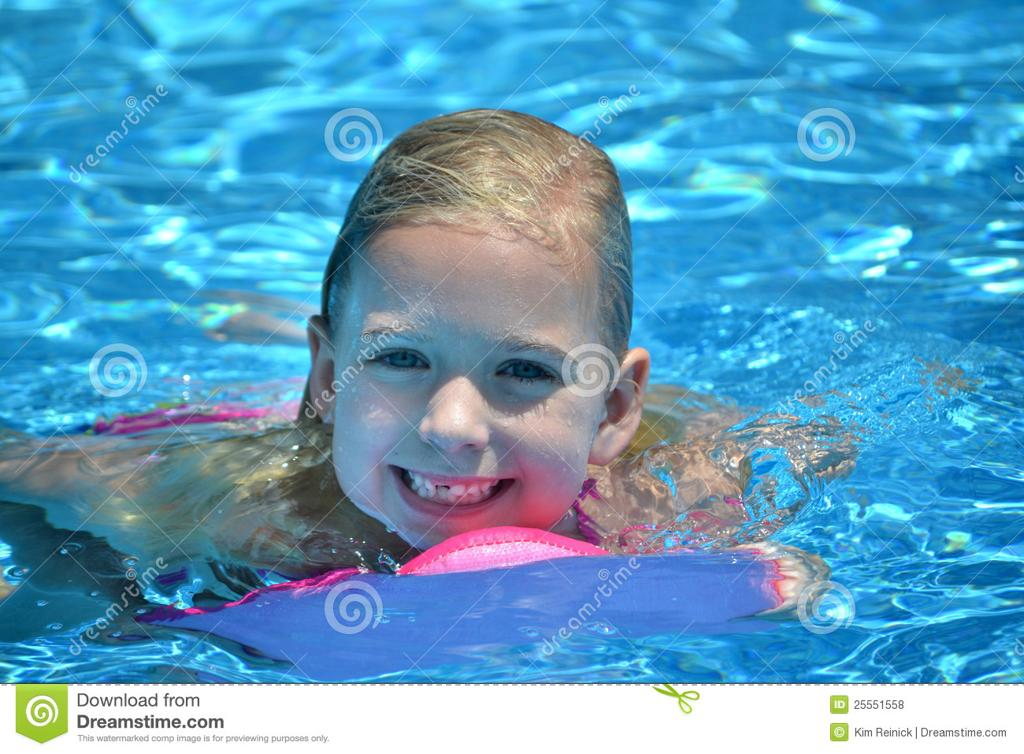face: (340, 250, 584, 560)
